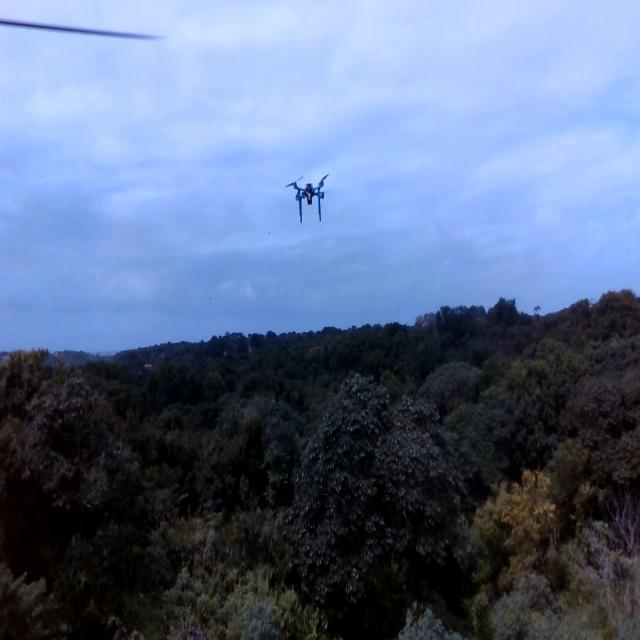-uav-: (285, 164, 334, 221)
